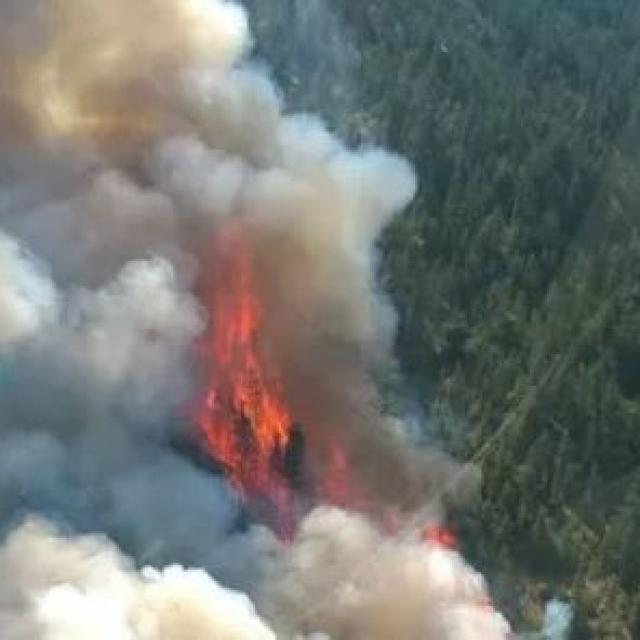Fire: (202, 265, 300, 495)
Smoke: (1, 12, 307, 230), (36, 503, 194, 623)
